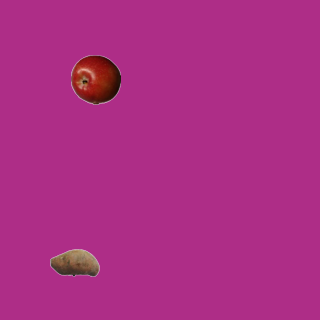Apple Braeburn: (70, 54, 120, 104)
Potato Sweet: (49, 237, 99, 287)
